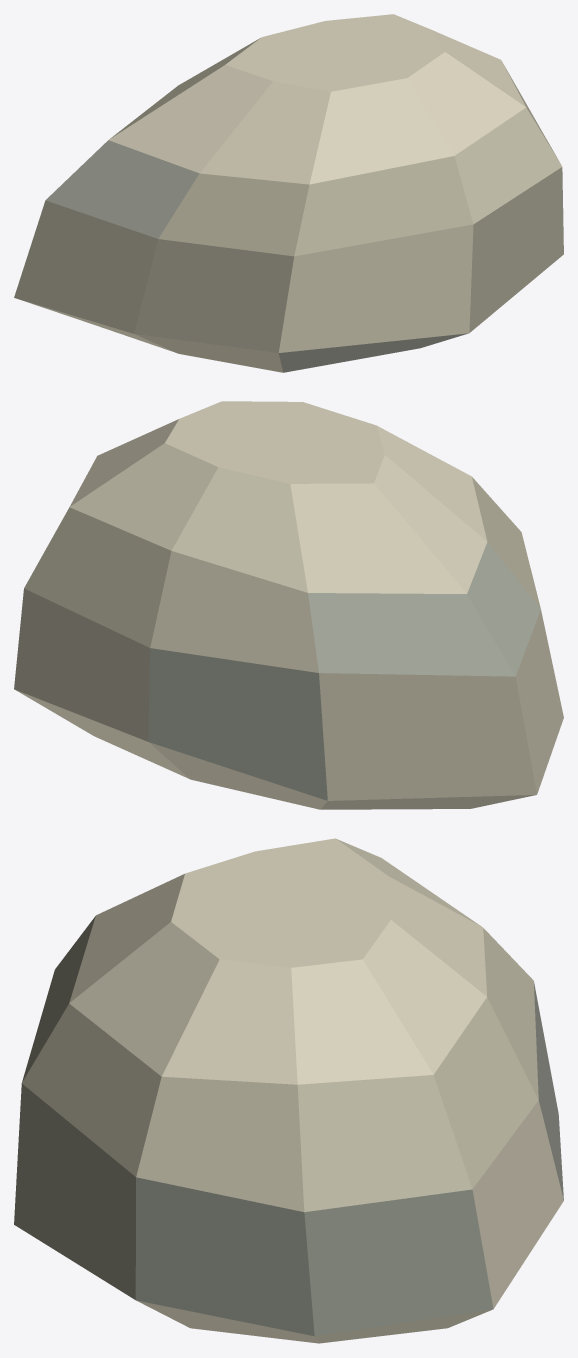
Rendered from reef_shelf.glb.
3 views of the same model, one above another, from view 1: azimuth 30°, elevation 25°; view 2: azimuth 150°, elevation 25°; view 3: azimuth 270°, elevation 25° (orthographic). The views are drawn at different scales.
Parts seen in each view (by area): view 1: reef_shelf; view 2: reef_shelf; view 3: reef_shelf.
Part boxes in pixels (x1,y1,x2,y2): reef_shelf: (14, 14, 563, 372); reef_shelf: (14, 401, 563, 809); reef_shelf: (14, 838, 563, 1343).
Size of the model in its own units: 2.2 by 1.1 by 1.58.
